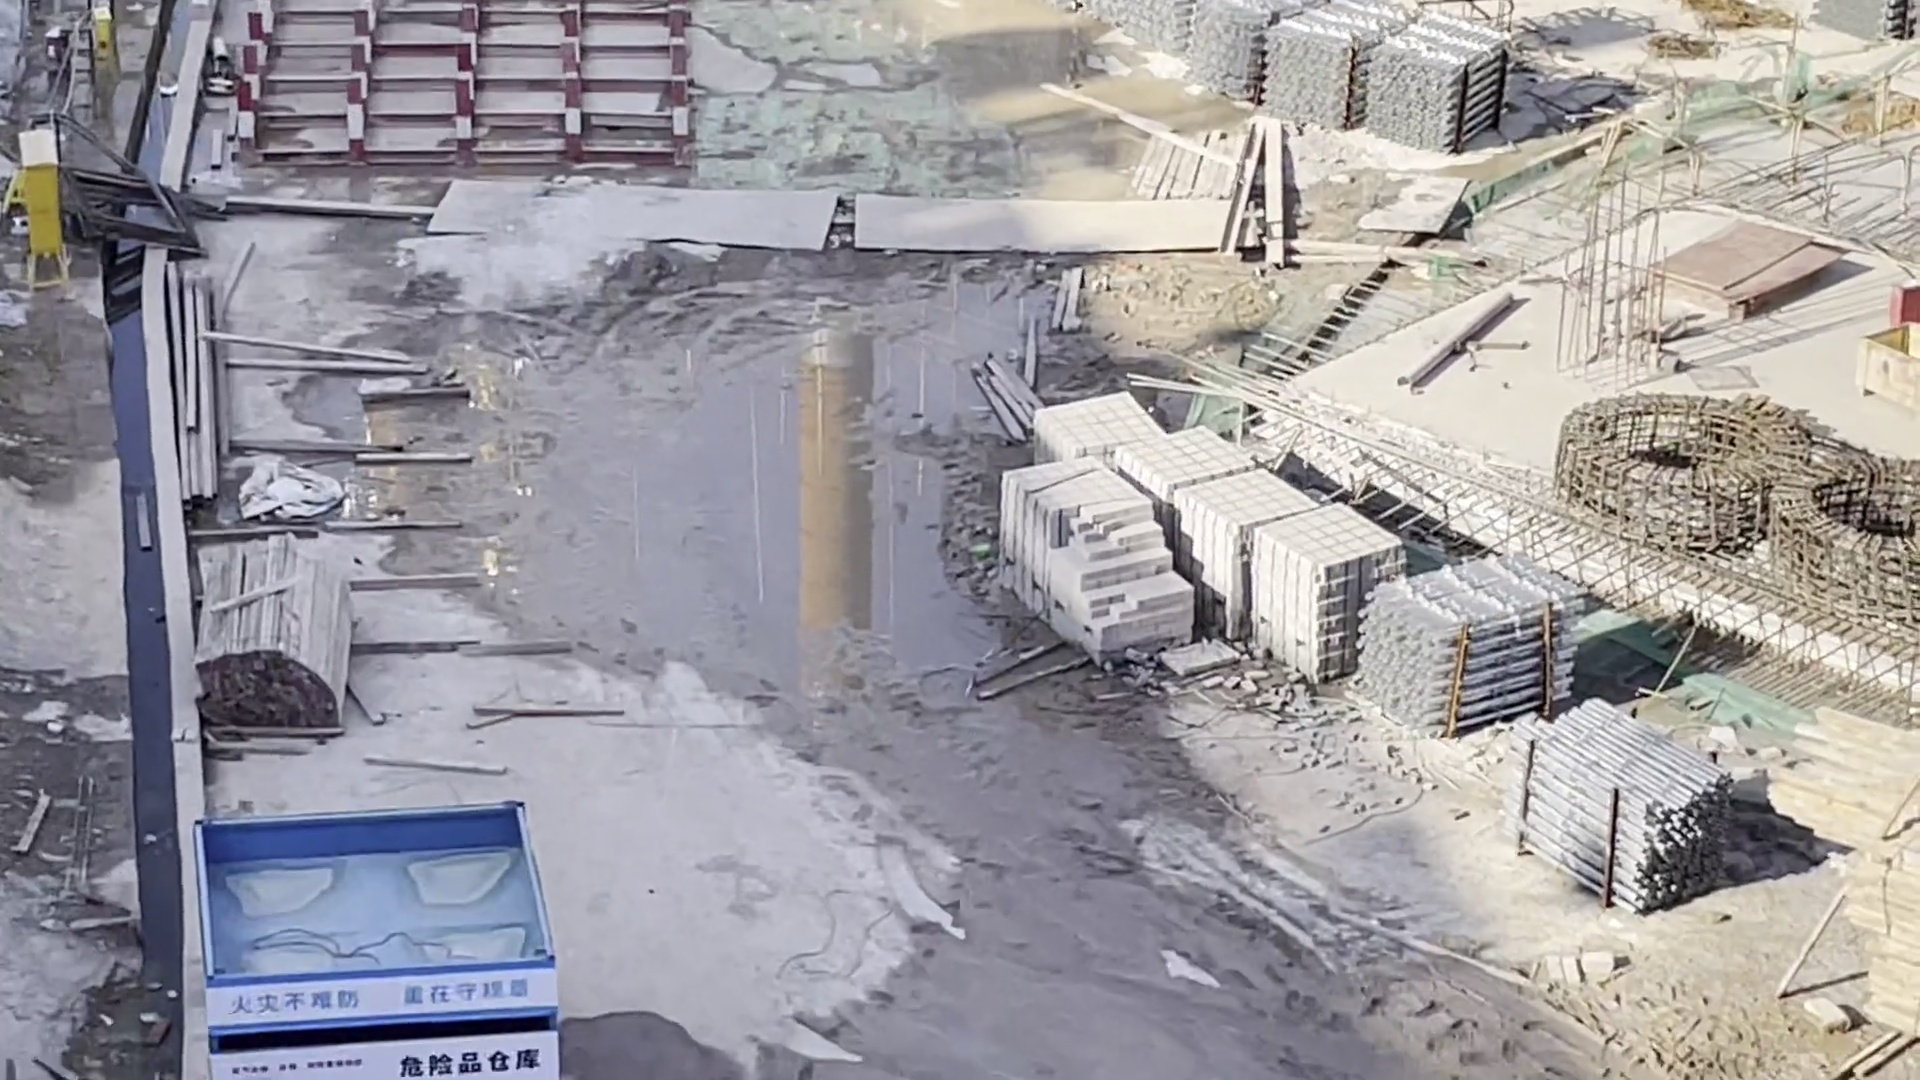board: (1656, 223, 1817, 315)
brick: (1000, 422, 1366, 646)
ebox: (15, 129, 67, 281)
scaffold: (1509, 708, 1724, 914), (1225, 1, 1509, 146), (1367, 558, 1578, 717)
slogan: (200, 977, 558, 1010)
wood: (212, 539, 355, 735)
